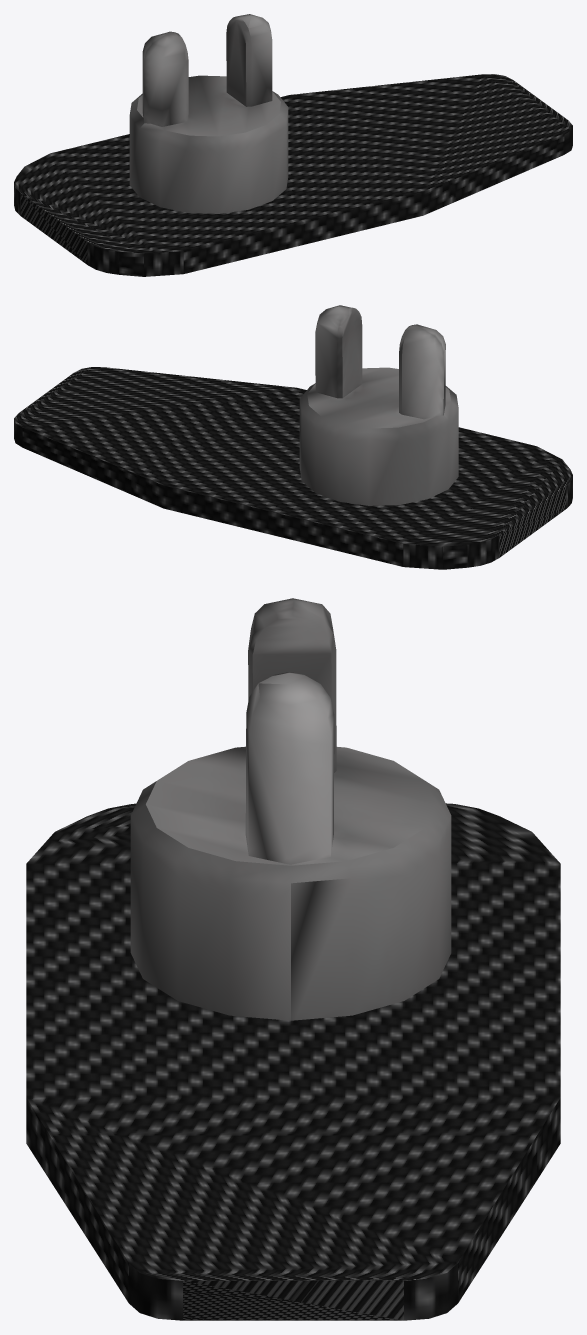
The model's file is r_foot.dae.
3 views of the same model, one above another, from view 1: azimuth 30°, elevation 25°; view 2: azimuth 150°, elevation 25°; view 3: azimuth 270°, elevation 25° (orthographic). The views are drawn at different scales.
Parts seen in each view (by area): view 1: p38784_1, p38848_1, p38658_1, p42410_3, p38926_1; view 2: p38784_1, p38848_1, p38658_1, p42410_3, p38926_1; view 3: p38784_1, p38848_1, p42410_3, p38658_1, p38926_1.
Boxes of the visible parts, x1,y1,x2,y2 form: p38784_1: (14, 74, 572, 276); p38848_1: (129, 75, 288, 213); p38658_1: (142, 31, 188, 126); p42410_3: (226, 14, 272, 106); p38926_1: (14, 126, 572, 276); p38784_1: (14, 367, 572, 569); p38848_1: (299, 367, 458, 505); p38658_1: (399, 324, 445, 419); p42410_3: (315, 305, 362, 398); p38926_1: (14, 419, 572, 569); p38784_1: (26, 803, 560, 1320); p38848_1: (130, 746, 451, 1020); p42410_3: (245, 672, 334, 864); p38658_1: (248, 598, 336, 772); p38926_1: (129, 1263, 457, 1320).
Bounding box in the file's own units: 0.2618 × 0.1244 × 0.0916.
